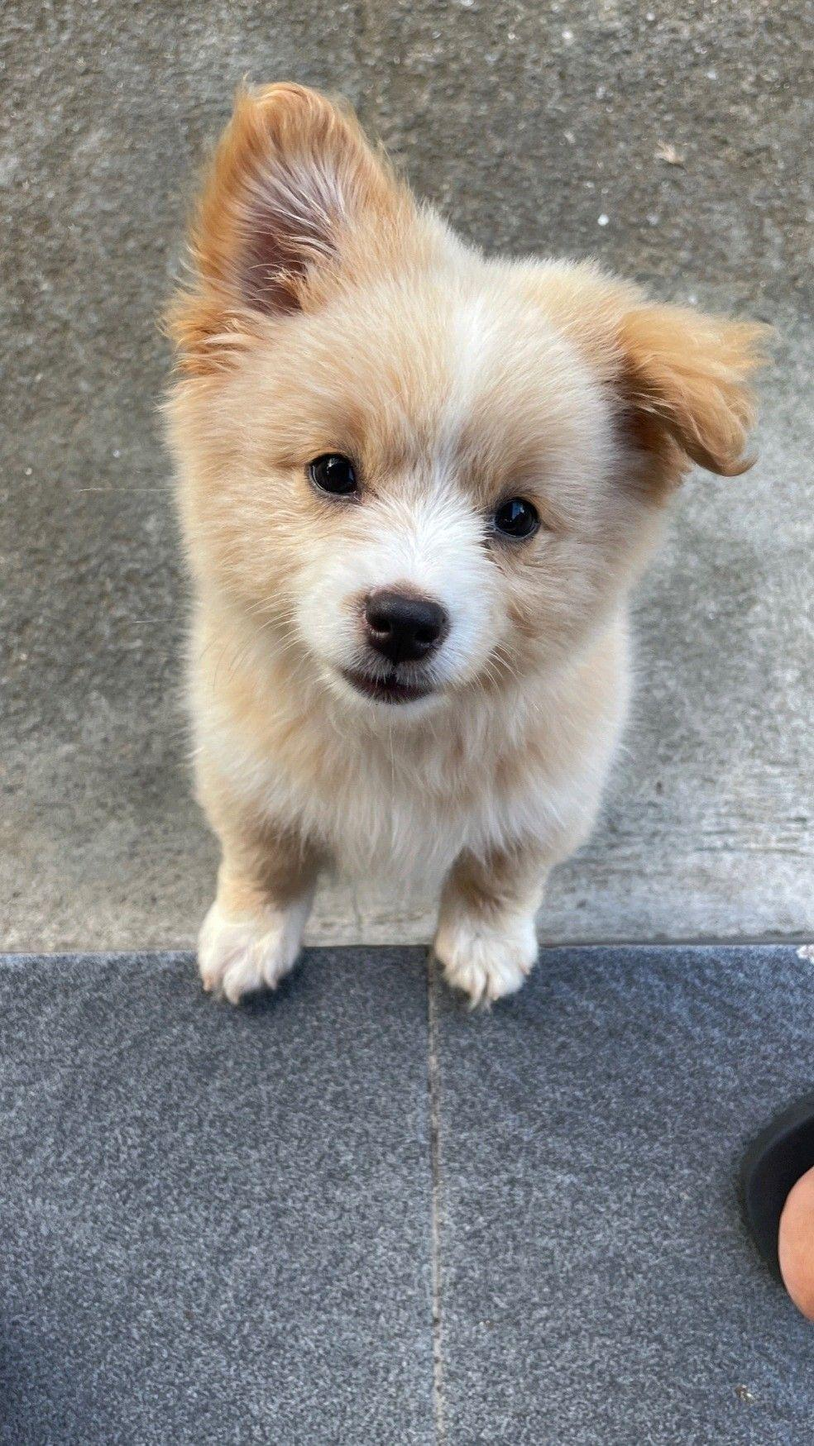puppy-dog: (157, 75, 784, 1013)
